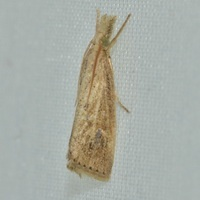insect: (67, 9, 130, 180)
